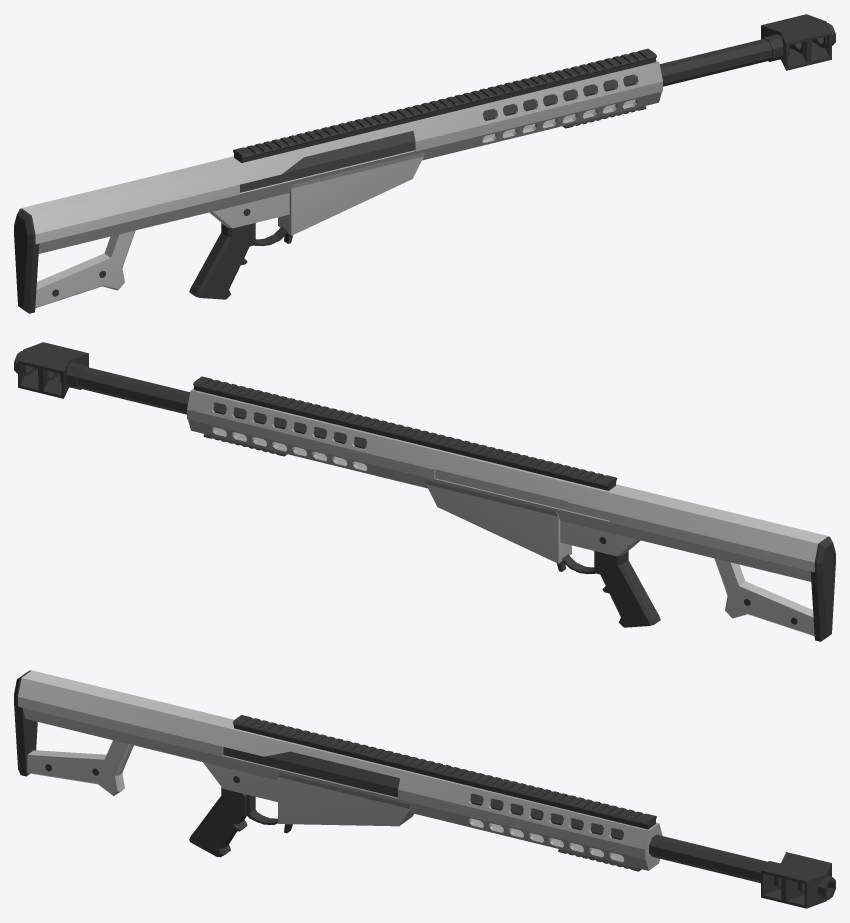
File: SniperRifle4_04.fbx
3 renders of one model, top to bottom at view 1: azimuth 30°, elevation 25°; view 2: azimuth 150°, elevation 25°; view 3: azimuth 330°, elevation 25°, orthographic.
Parts seen in each view (by area): view 1: SniperRifle4_04; view 2: SniperRifle4_04; view 3: SniperRifle4_04.
Boxes of the visible parts, bbox=[...] form: SniperRifle4_04: bbox=[14, 14, 835, 313]; SniperRifle4_04: bbox=[14, 342, 835, 641]; SniperRifle4_04: bbox=[14, 670, 835, 908].
Size of the model in its own units: 1.39 by 0.2303 by 0.0749.
